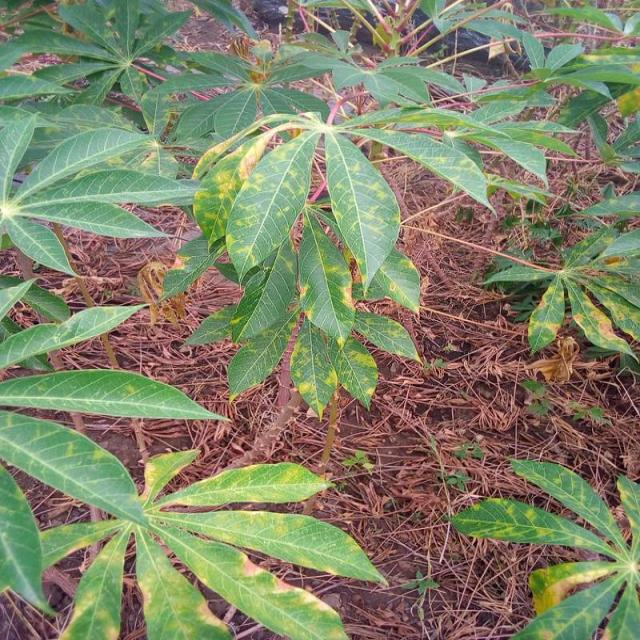cassava leaf: (223, 125, 318, 285), (323, 127, 401, 295)
